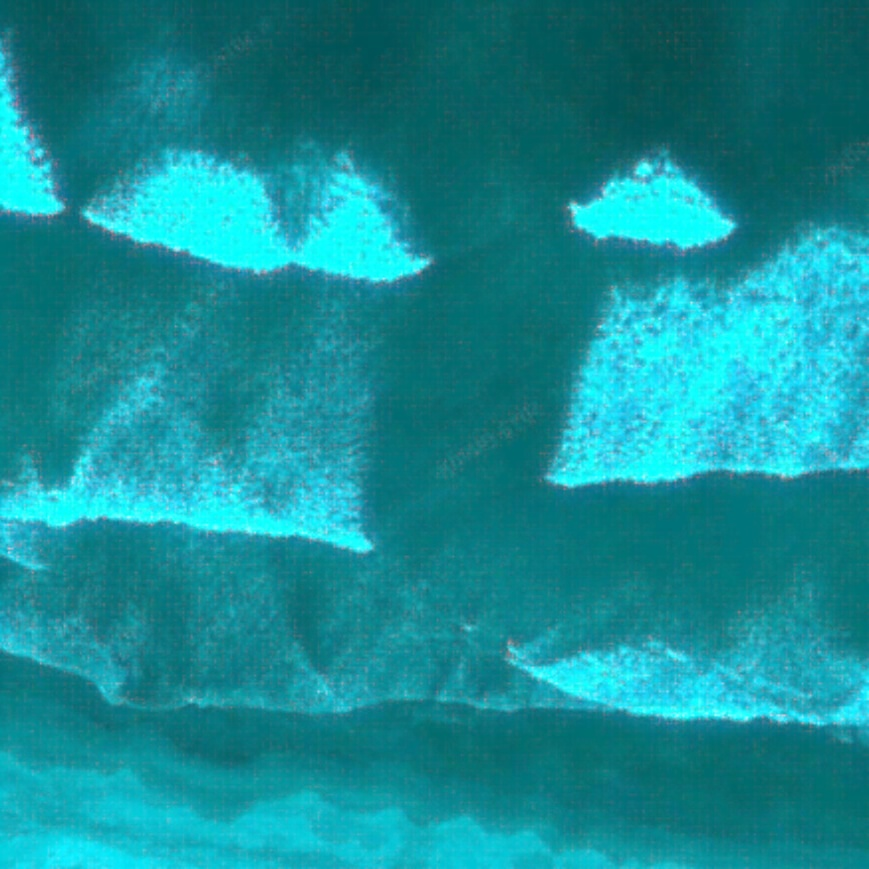rip_current: (312, 155, 646, 717)
